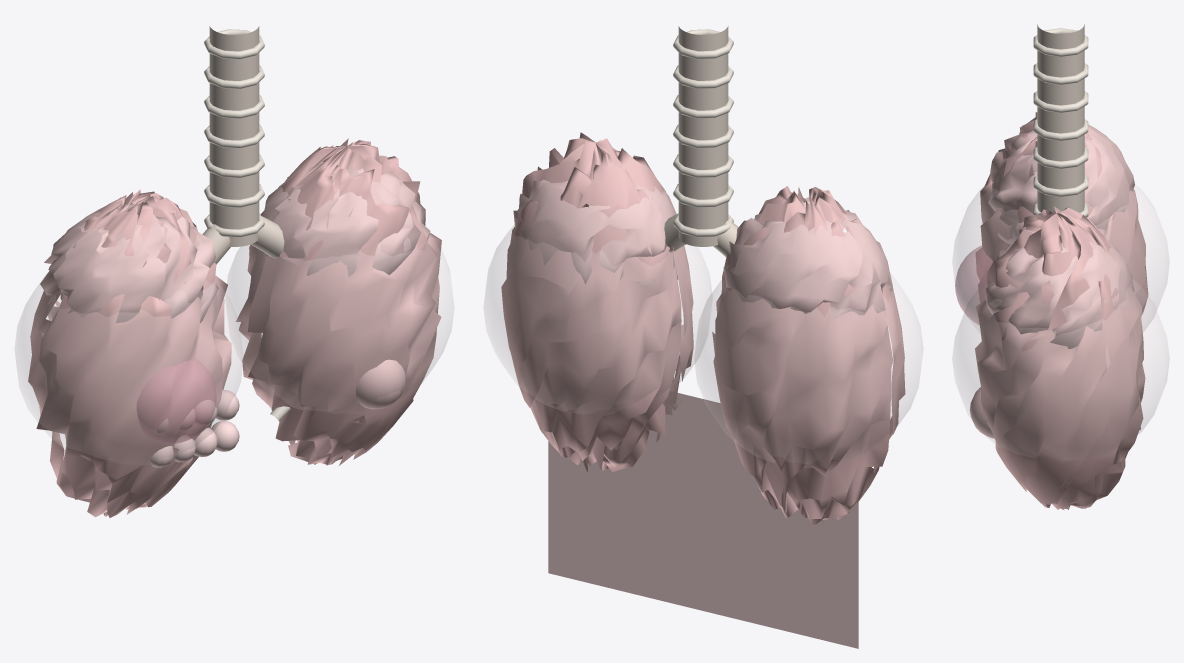
Rendered from lungs.glb.
3 views of the same model, side by side, from view 1: azimuth 30°, elevation 25°; view 2: azimuth 150°, elevation 25°; view 3: azimuth 270°, elevation 25° (orthographic). The views are drawn at different scales.
Parts seen in each view (by area): view 1: right_lung, left_lung, pleural_membrane_right, pleural_membrane, left_upper_lobe, right_upper_lobe, trachea, heart_position, alveolar_sac, right_bronchus, tracheal_ring_7, alveolus_8; view 2: diaphragm, right_lung, left_lung, pleural_membrane, pleural_membrane_right, left_upper_lobe, right_upper_lobe, trachea, tracheal_ring_7; view 3: right_lung, pleural_membrane_right, pleural_membrane, right_upper_lobe, left_upper_lobe, trachea, left_lung, heart_position, tracheal_ring_7, alveolar_sac, tracheal_ring_2, tracheal_ring_4 (+3 smaller).
Boxes of the visible parts, x1,y1,x2,y2 form: right_lung: (236, 138, 441, 465); left_lung: (28, 189, 231, 517); pleural_membrane_right: (225, 233, 453, 413); pleural_membrane: (15, 274, 243, 464); left_upper_lobe: (40, 203, 218, 323); right_upper_lobe: (249, 161, 430, 276); trachea: (209, 26, 259, 246); heart_position: (137, 359, 216, 443); alveolar_sac: (356, 359, 406, 409); right_bronchus: (251, 215, 284, 258); tracheal_ring_7: (204, 29, 264, 59); alveolus_8: (211, 421, 239, 451); diaphragm: (548, 391, 858, 648); right_lung: (501, 132, 693, 472); left_lung: (712, 186, 905, 524); pleural_membrane: (694, 273, 922, 467); pleural_membrane_right: (484, 225, 712, 414); left_upper_lobe: (723, 197, 893, 319); right_upper_lobe: (513, 162, 676, 284); trachea: (678, 26, 728, 246); tracheal_ring_7: (673, 29, 733, 59); right_lung: (975, 206, 1145, 510); pleural_membrane_right: (952, 280, 1169, 459); pleural_membrane: (952, 184, 1169, 334); right_upper_lobe: (985, 226, 1134, 348); left_upper_lobe: (988, 124, 1134, 244); trachea: (1037, 24, 1084, 212); left_lung: (976, 112, 1148, 314); heart_position: (955, 245, 992, 324); tracheal_ring_7: (1033, 28, 1088, 56); alveolar_sac: (969, 387, 994, 438); tracheal_ring_2: (1033, 175, 1088, 196); tracheal_ring_4: (1033, 119, 1088, 140).
Bounding box in the file's own units: 1.14 × 1.55 × 0.553.
